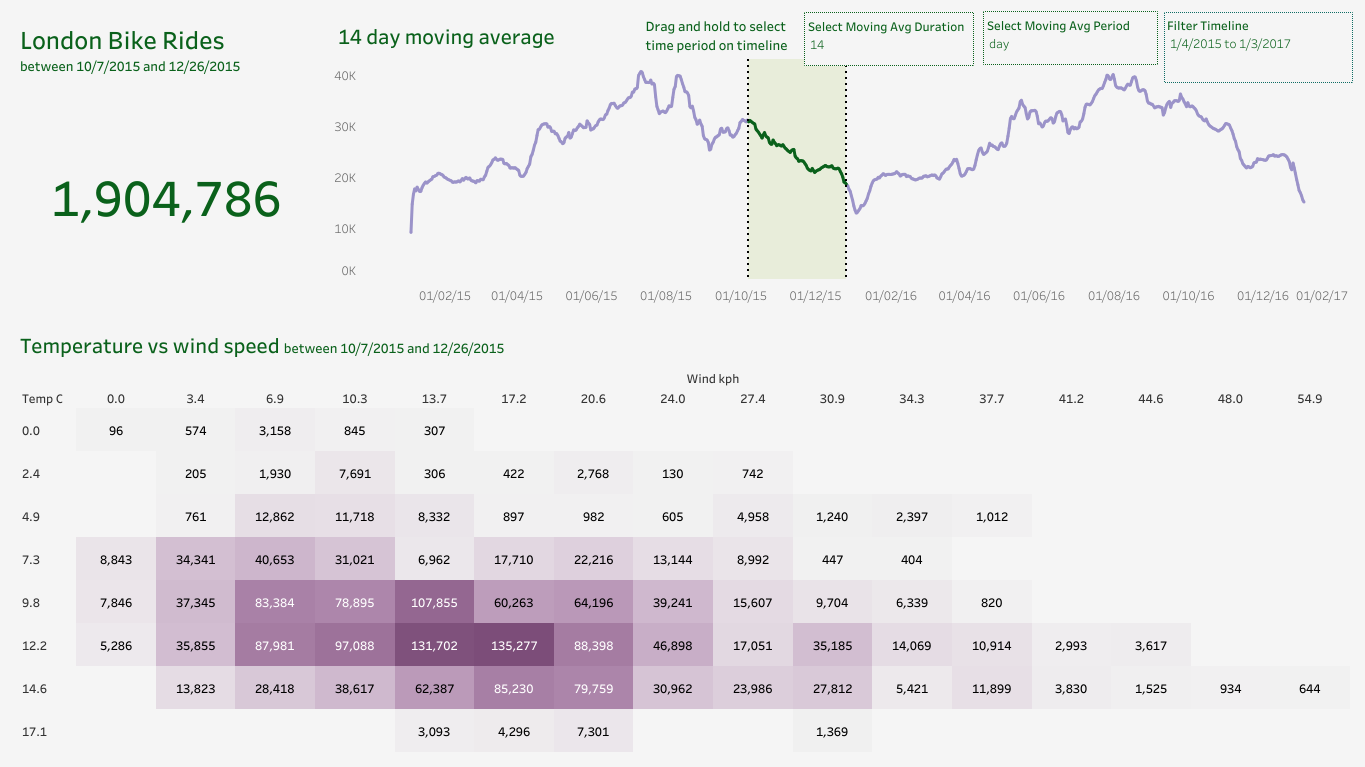

The page's visual inventory and layout, read from the dashboard file:
{"tool":"tableau","page":{"name":"Dashboard 1","canvas":[1366,768],"ordinal":0},"visuals":[{"type":"parameter","param":"[Parameters].[Parameter 2]","box":[804,5,178,55]},{"type":"filter","title":"MovingAverage ","param":"[federated.1vzxkjj1dnrbl016in6ue0r5mv7f].[none:Calculation_1009158176840101888:q","box":[1168,5,168,58]},{"type":"parameter","param":"[Parameters].[Parameter 1]","box":[996,6,160,55]},{"type":"worksheet","title":"Total Rides","mark":"Automatic","box":[8,8,239,376]},{"type":"worksheet","title":"MovingAverage ","mark":"Automatic","rows":["Calculation1"],"cols":["Calculation_1009158176840101888"],"box":[247,8,1111,376]},{"type":"text","box":[627,15,144,34]},{"type":"worksheet","title":"Heatmap","mark":"Square","rows":["temp real C (bin)"],"cols":["Wind Speed Kph (bin)"],"box":[8,384,1350,376]}]}

Visuals, with their boxes in screenshot pixels (x1, y1, x2, y2), scaled from the page's 1366x768 canvas onto the 1365x767 screenshot:
parameter: <region>803, 5, 981, 60</region>
"MovingAverage " filter: <region>1167, 5, 1335, 63</region>
parameter: <region>995, 6, 1155, 61</region>
"Total Rides" worksheet: <region>8, 8, 247, 384</region>
"MovingAverage " worksheet: <region>247, 8, 1357, 384</region>
text: <region>627, 15, 770, 49</region>
"Heatmap" worksheet (Square marks): <region>8, 384, 1357, 759</region>
